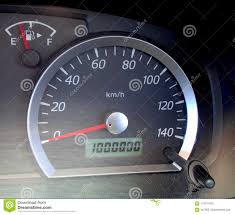Digital_Meter: (84, 137, 144, 157)
